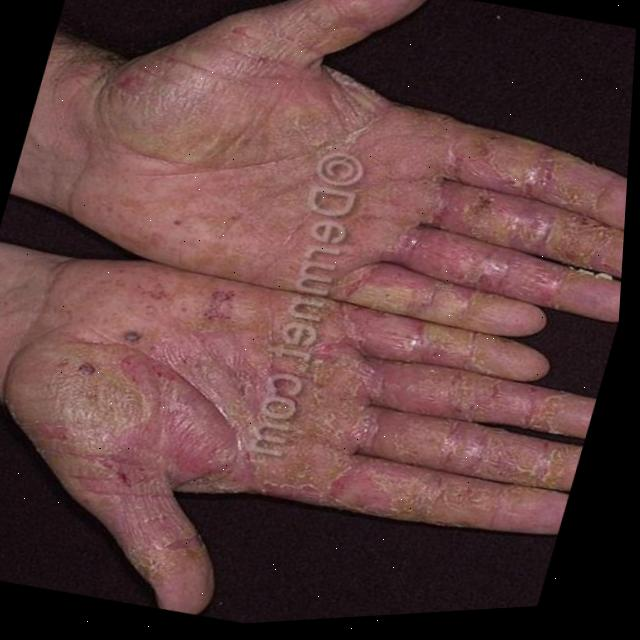Eczema: (41, 0, 639, 596)
